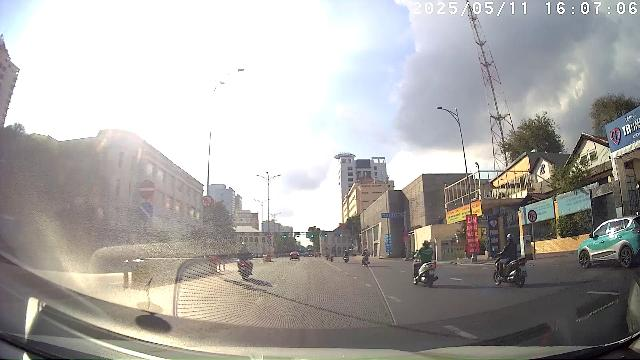124b-cam-oto-quay-dau-xe: (528, 210, 538, 222)
